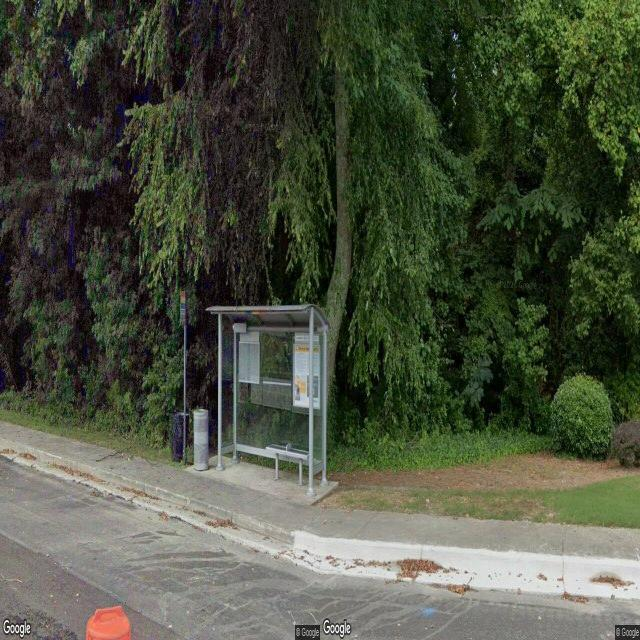seating: (266, 442, 308, 485)
shelter: (206, 304, 330, 494)
trash_can: (192, 408, 210, 472), (172, 412, 188, 458)
